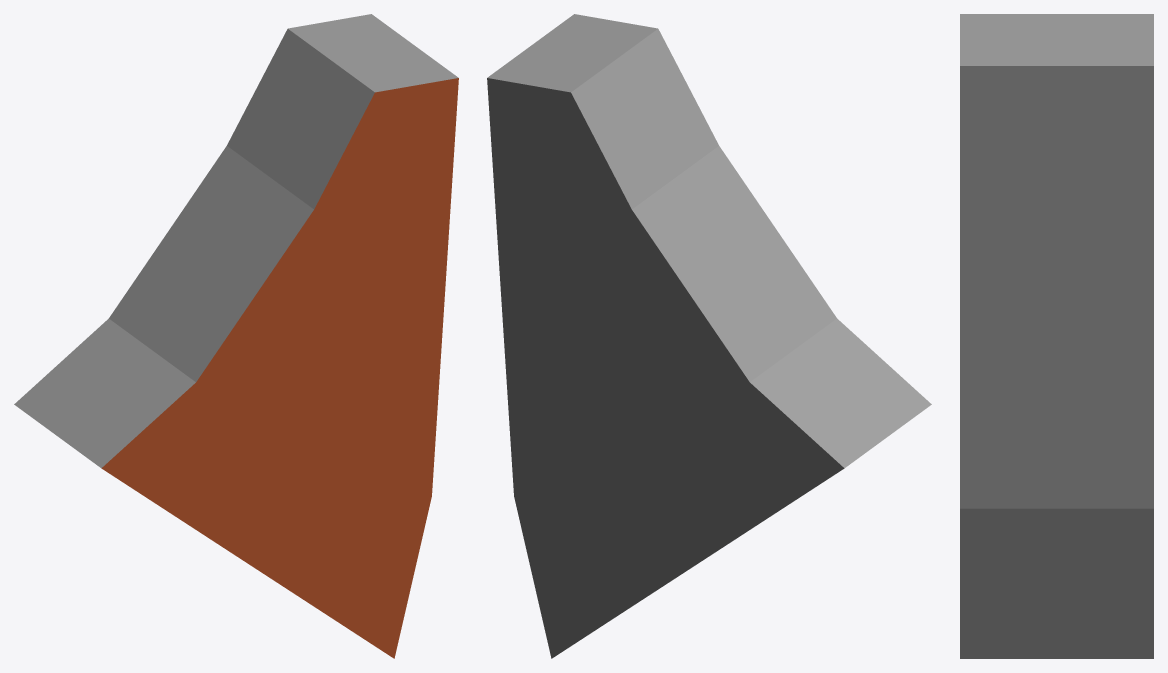
The model's file is construction_6319_assumed_A_Casa_h6m.obj.
The picture shows the model from 3 angles, left to right: view 1: azimuth 30°, elevation 25°; view 2: azimuth 150°, elevation 25°; view 3: azimuth 270°, elevation 25°; orthographic projection. The views are drawn at different scales.
Visible parts, largest first — view 1: construction_6319_assumed_A_Casa; view 2: construction_6319_assumed_A_Casa; view 3: construction_6319_assumed_A_Casa.
Part boxes in pixels (x1,y1,x2,y2): construction_6319_assumed_A_Casa: (14, 14, 458, 658); construction_6319_assumed_A_Casa: (487, 14, 931, 658); construction_6319_assumed_A_Casa: (960, 14, 1153, 658).
Bounding box in the file's own units: 14.18 × 21.65 × 6.
